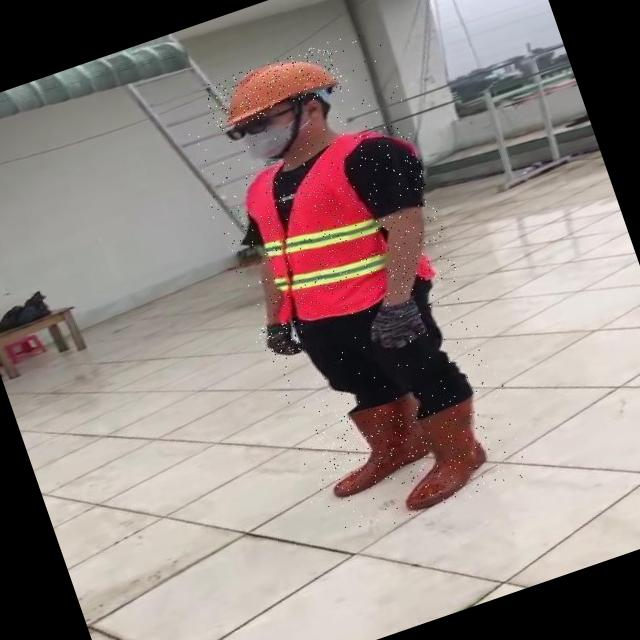hard_hat: (202, 41, 346, 132)
safety_vest: (226, 117, 458, 336)
vehicle: (170, 22, 534, 546)
work_boots: (383, 394, 506, 514), (312, 392, 438, 500)
